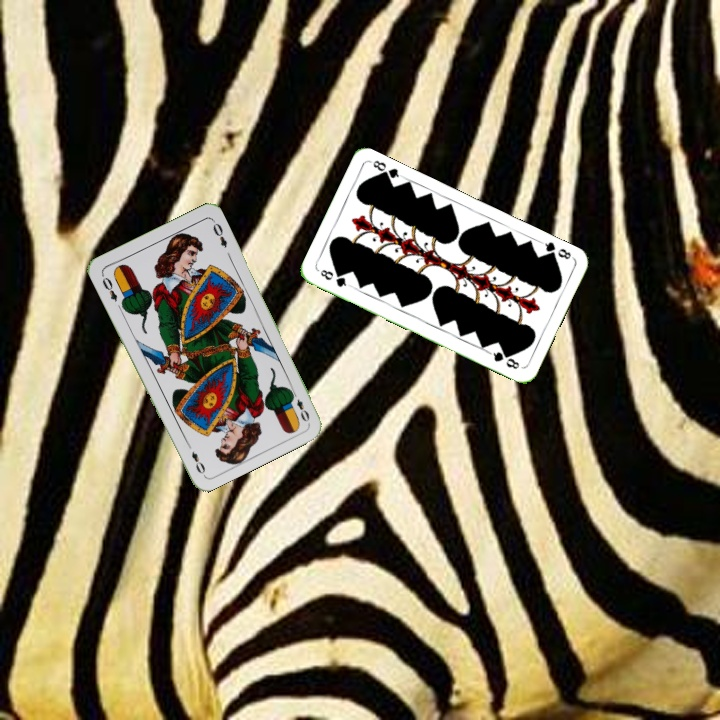EO: (287, 387, 312, 424), (98, 273, 120, 304)
G8: (537, 237, 575, 262), (316, 266, 353, 290)
